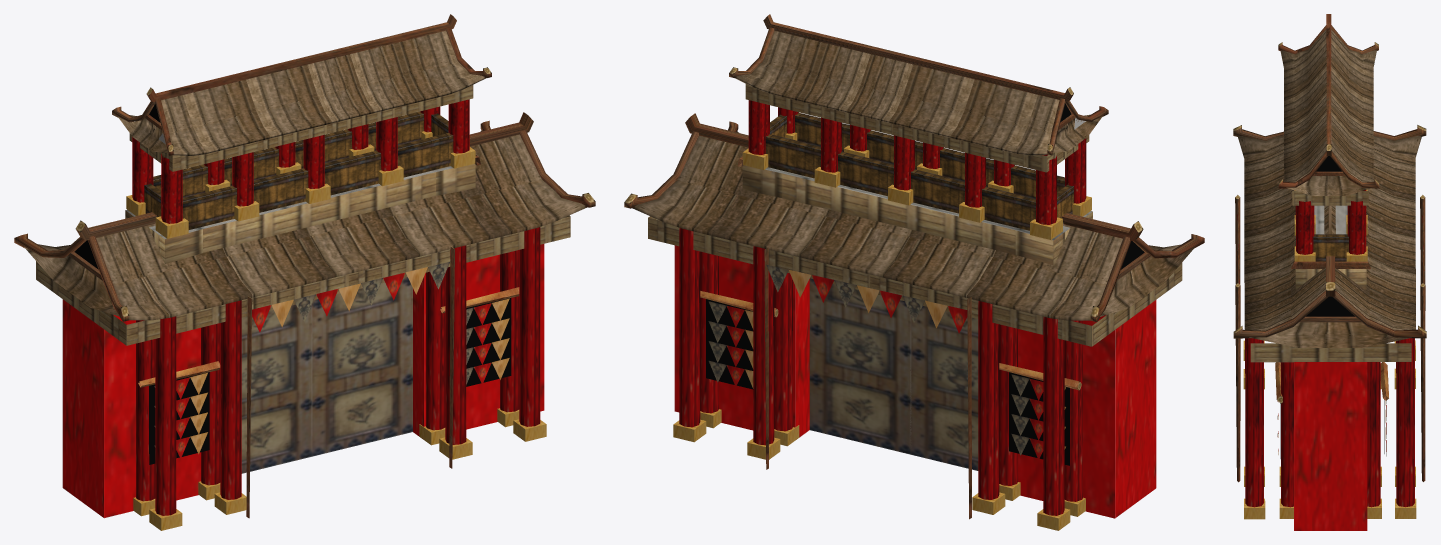
File: wall_gate.dae
The picture shows the model from 3 angles, left to right: view 1: azimuth 30°, elevation 25°; view 2: azimuth 150°, elevation 25°; view 3: azimuth 270°, elevation 25°; orthographic projection. The views are drawn at different scales.
Parts seen in each view (by area): view 1: wall_gate; view 2: wall_gate; view 3: wall_gate.
Part boxes in pixels (x1,y1,x2,y2): wall_gate: (14, 14, 595, 530); wall_gate: (624, 14, 1204, 530); wall_gate: (1233, 14, 1426, 530).
Size of the model in its own units: 25.79 by 10.25 by 21.04.
